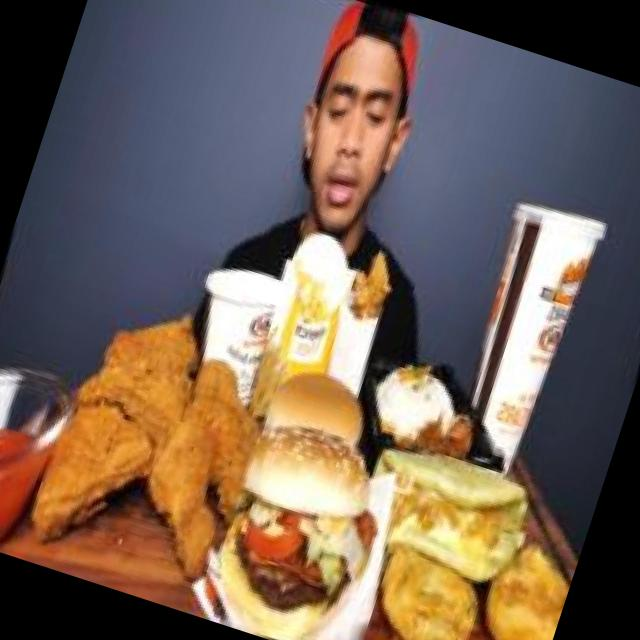AW cola: (414, 169, 632, 492)
black pepper rice bowl: (334, 334, 511, 498)
cheese burger: (253, 349, 391, 473)
chicken waffle: (306, 237, 414, 385)
crispy corn: (161, 235, 306, 425)
french fries: (255, 227, 368, 366)
fried chicken: (0, 260, 305, 607)
mango chicken pocket: (344, 415, 560, 603)
mozza burger: (173, 392, 415, 640)
perkedel: (347, 521, 510, 640), (460, 516, 584, 640)
